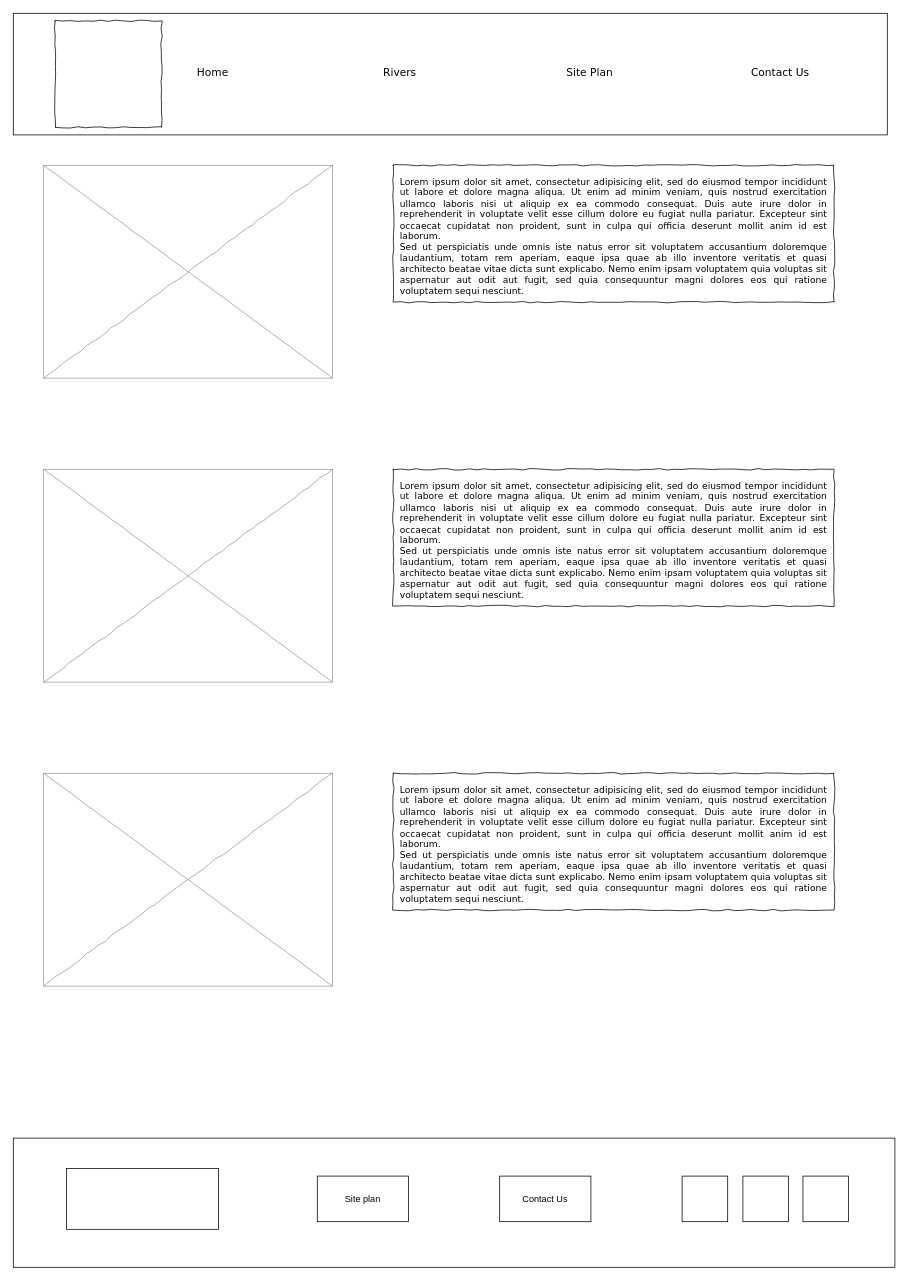
Some shapes in this 915 by 1281 pixel diagram are drawn without their labels. Each missing label, with the centre of its shape:
Life is Good 2022-Seth Chen: the point at 142,1198
LOGO: the point at 108,73
